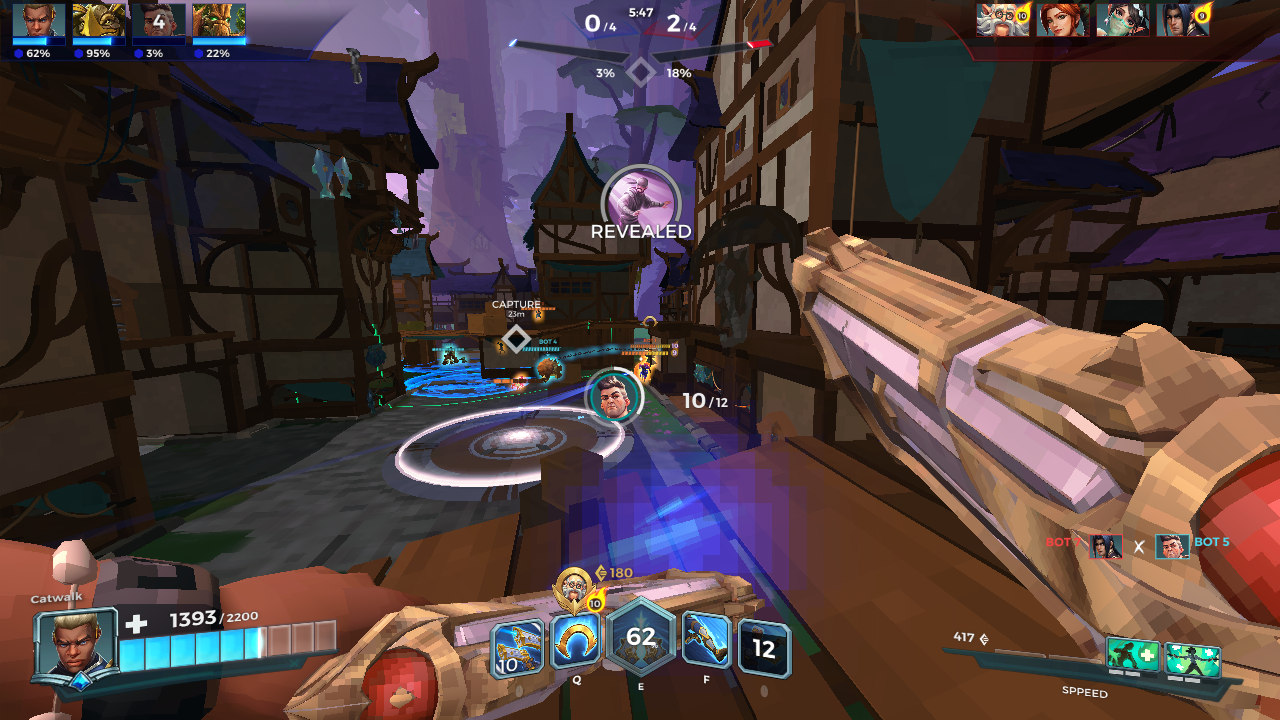model: (492, 337, 510, 357), (638, 359, 652, 384), (530, 298, 544, 321)
